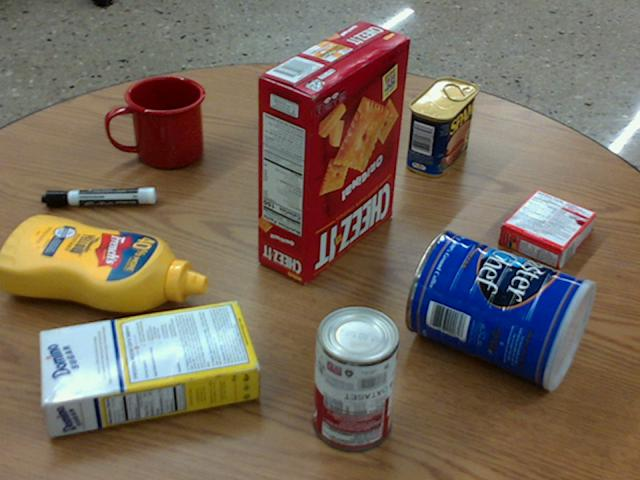cracker_box: (256, 19, 409, 283)
gelatin_box: (498, 188, 595, 267)
large_marker: (42, 186, 155, 207)
master_chef_can: (407, 228, 597, 389)
mug: (107, 76, 204, 169)
mustard_bottle: (0, 213, 207, 313)
potted_meat_can: (407, 77, 477, 177)
sugar_box: (36, 300, 257, 435)
tomato_soup_can: (315, 304, 401, 450)
tuna_fish_can: (281, 73, 346, 147)
